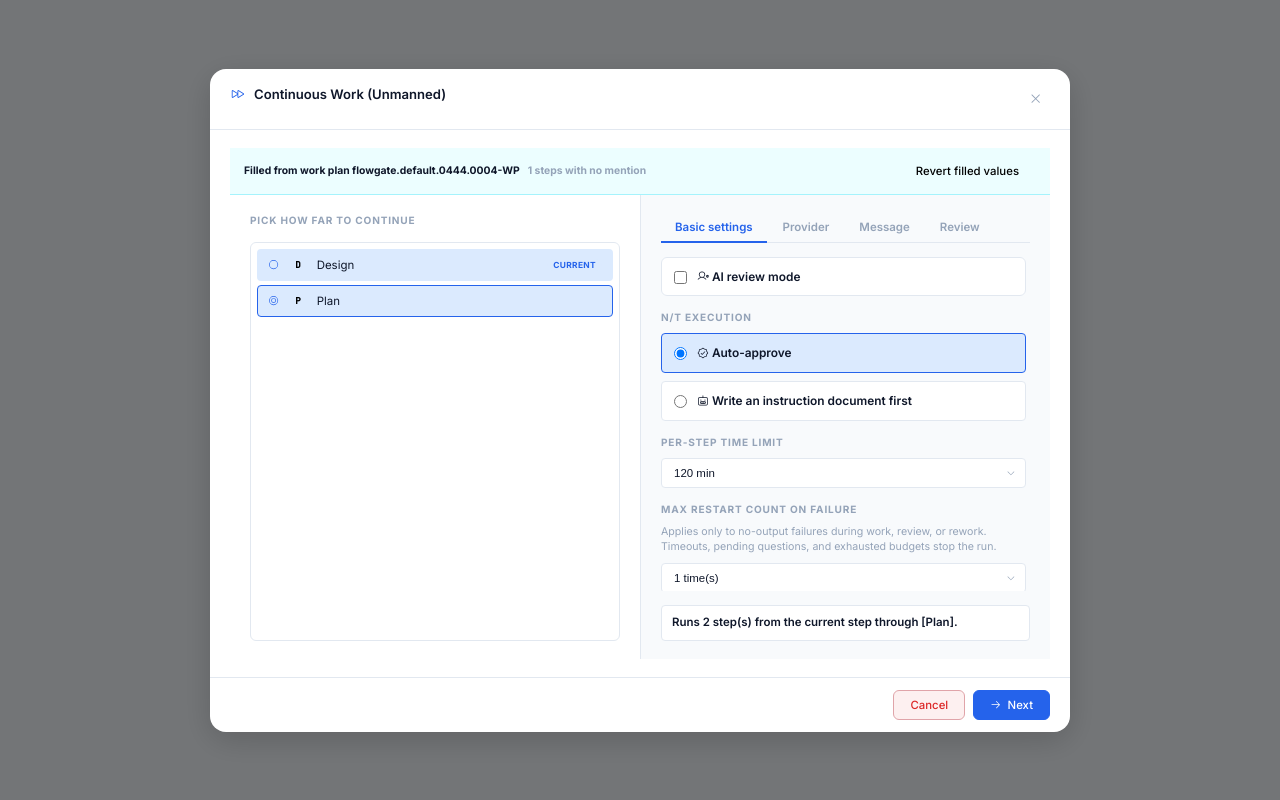
it: ContinuousWorkDialog note/provider touch sets are separate (0444 T0007 §5-3 / 0554 T0012) › keeps a hand-typed mention through a mode switch, without a plan read touching its row provider
Click the button with class "cwd-tab" showing "Provider" at (806, 228), box [769,212,843,242]
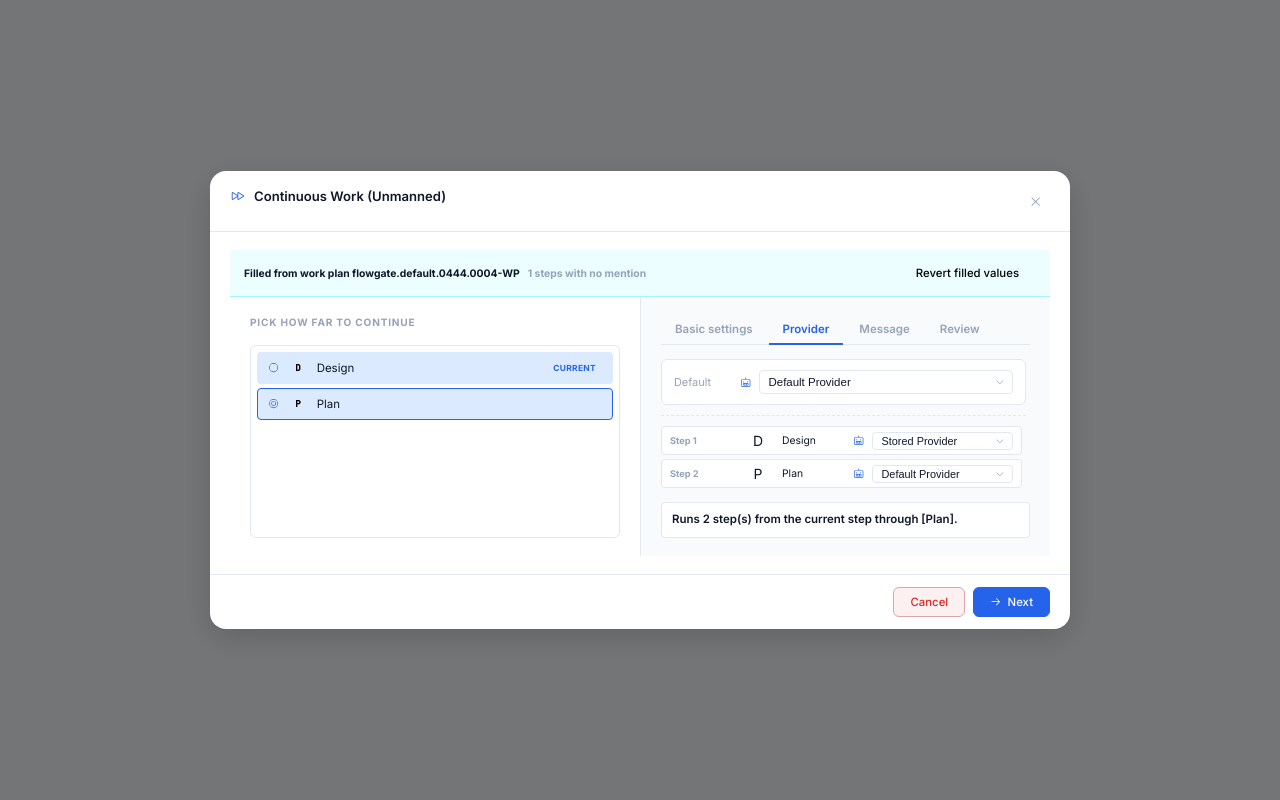
Check: the dropdown with class "aip-select-input" in the row of "Step 1" shows "Stored Provider", box [872,432,1013,450]
Click the button with class "cwd-tab" showing "Message" at (885, 330), box [845,315,924,345]
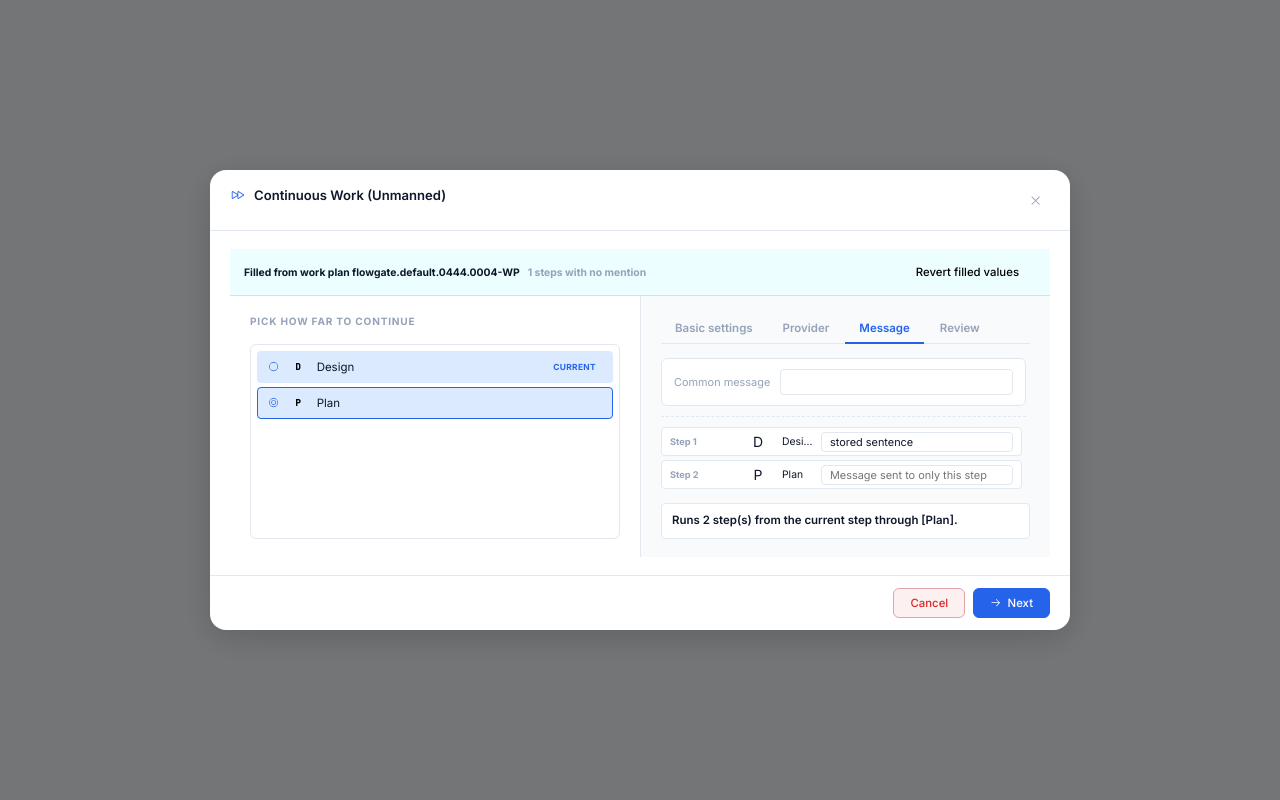
Replace the text in the 1st field with class "cwd-override-message-input" with "typed by hand" at (917, 442), box [821,432,1013,452]
Click the button with class "cwd-tab" showing "Basic settings" at (714, 329), box [661,314,767,344]
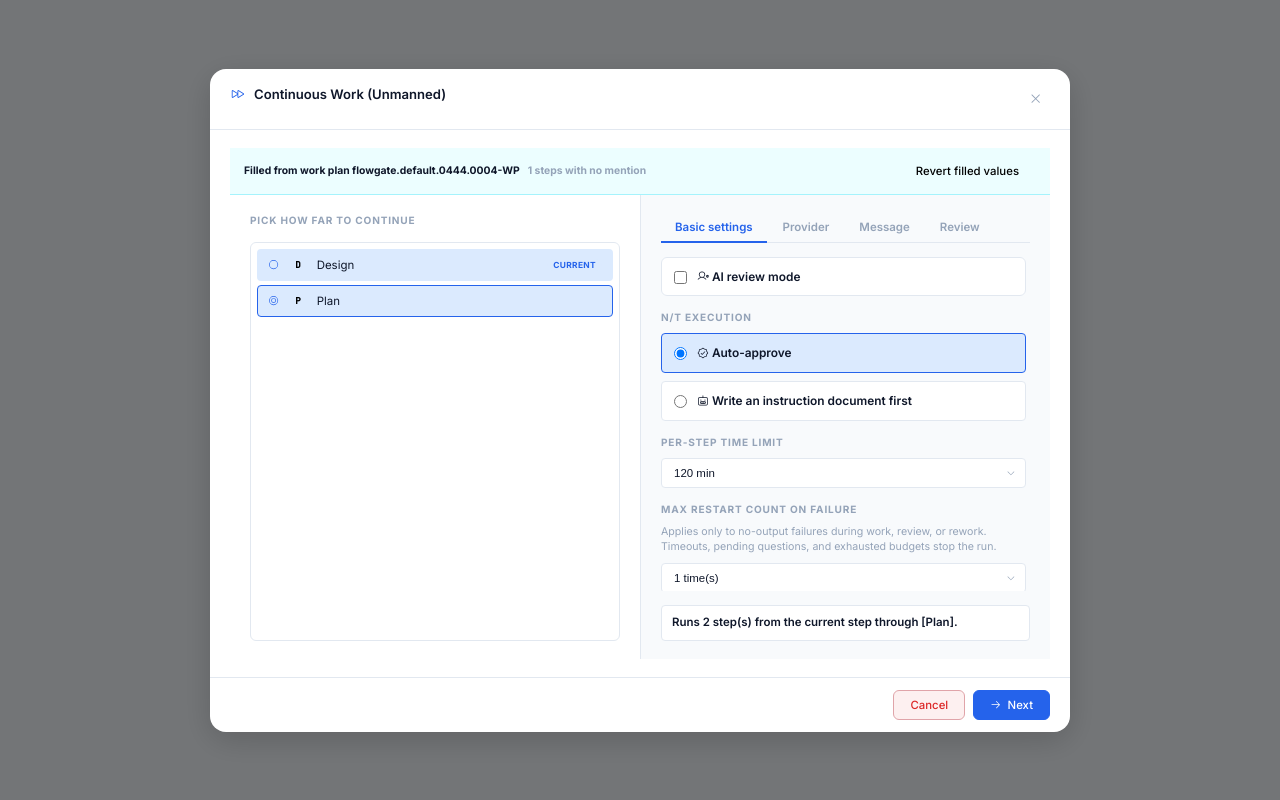
Click the radio button labelled "Write an instruction document first" at (680, 402), box [674,395,687,408]
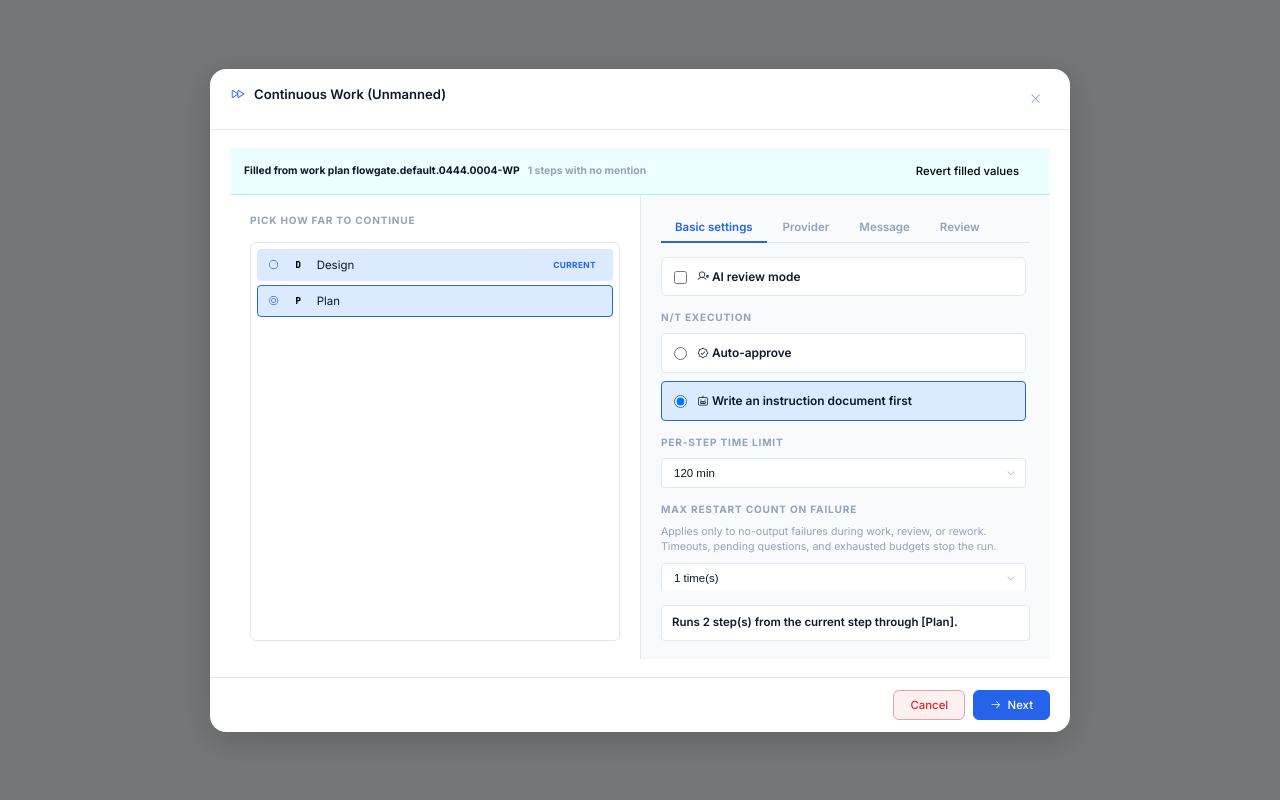
Click the button with class "cwd-tab" showing "Message" at (885, 228), box [845,212,924,242]
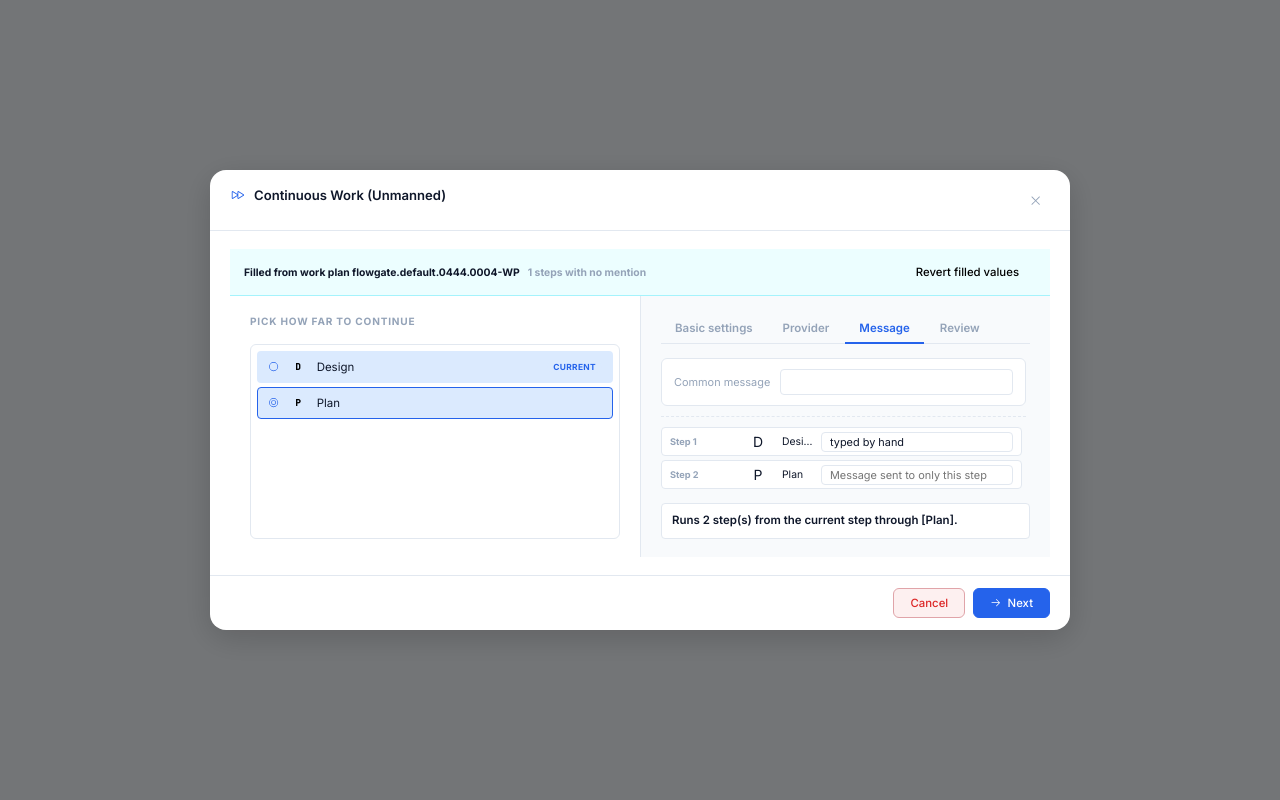
Check: the field with class "cwd-override-message-input" holds "typed by hand", box [821,432,1013,452]
Click the button with class "cwd-tab" showing "Provider" at (806, 329), box [769,314,843,344]
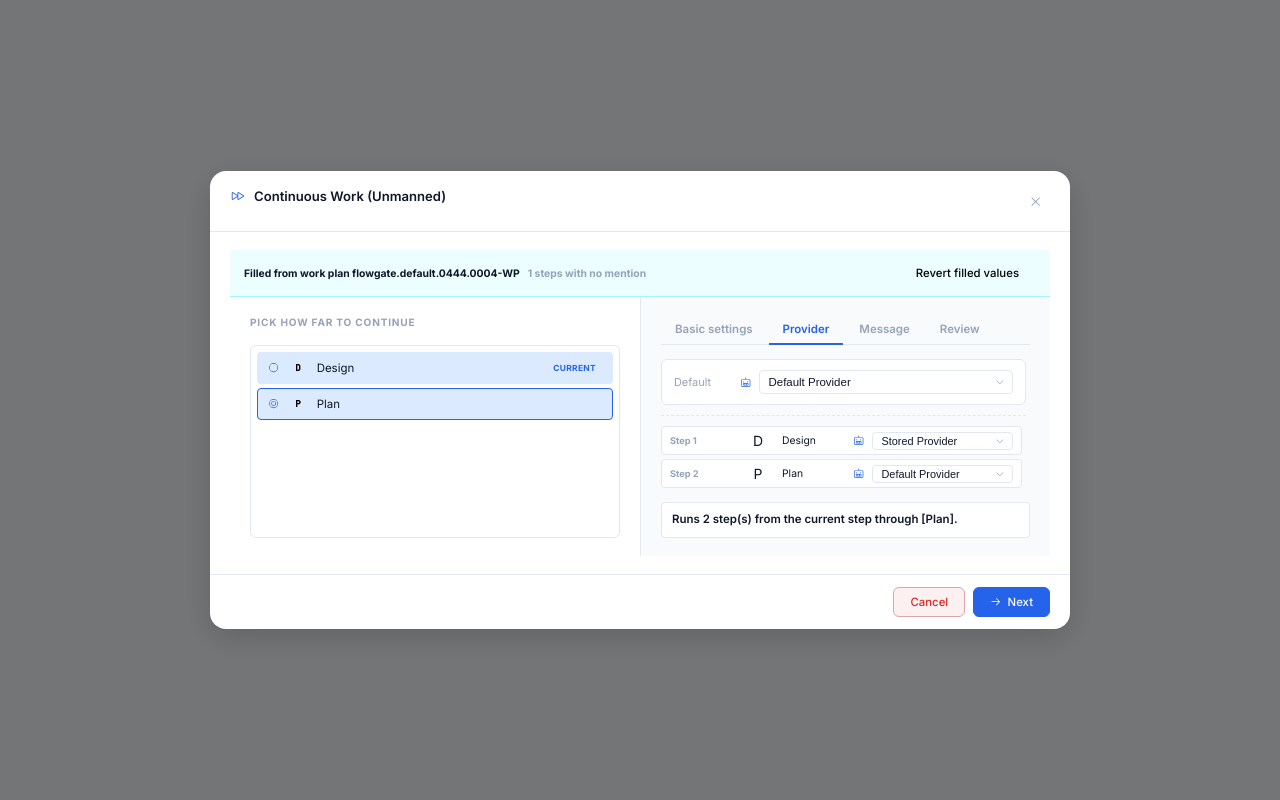
Check: the dropdown with class "aip-select-input" in the row of "Step 1" shows "Stored Provider", box [872,432,1013,450]
